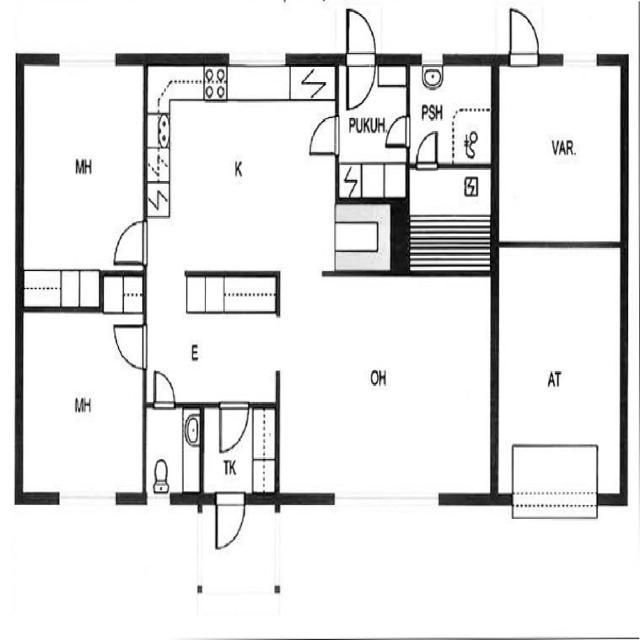door: (338, 48, 408, 204), (342, 8, 377, 112), (505, 4, 543, 69), (109, 212, 150, 268), (212, 490, 247, 554), (110, 320, 151, 372), (215, 402, 252, 459), (304, 108, 340, 161), (151, 368, 177, 410), (414, 128, 440, 168), (382, 114, 410, 151)
window: (330, 487, 444, 518), (53, 45, 122, 73), (223, 47, 290, 75), (53, 486, 120, 510), (555, 48, 603, 73), (418, 51, 446, 69)
zone: (280, 273, 495, 504), (146, 66, 340, 272), (496, 244, 622, 489), (19, 55, 148, 286), (18, 305, 146, 501), (495, 58, 625, 247), (156, 276, 279, 406), (337, 58, 409, 204), (406, 165, 495, 275), (408, 61, 493, 166), (144, 404, 203, 500), (211, 400, 256, 467)
